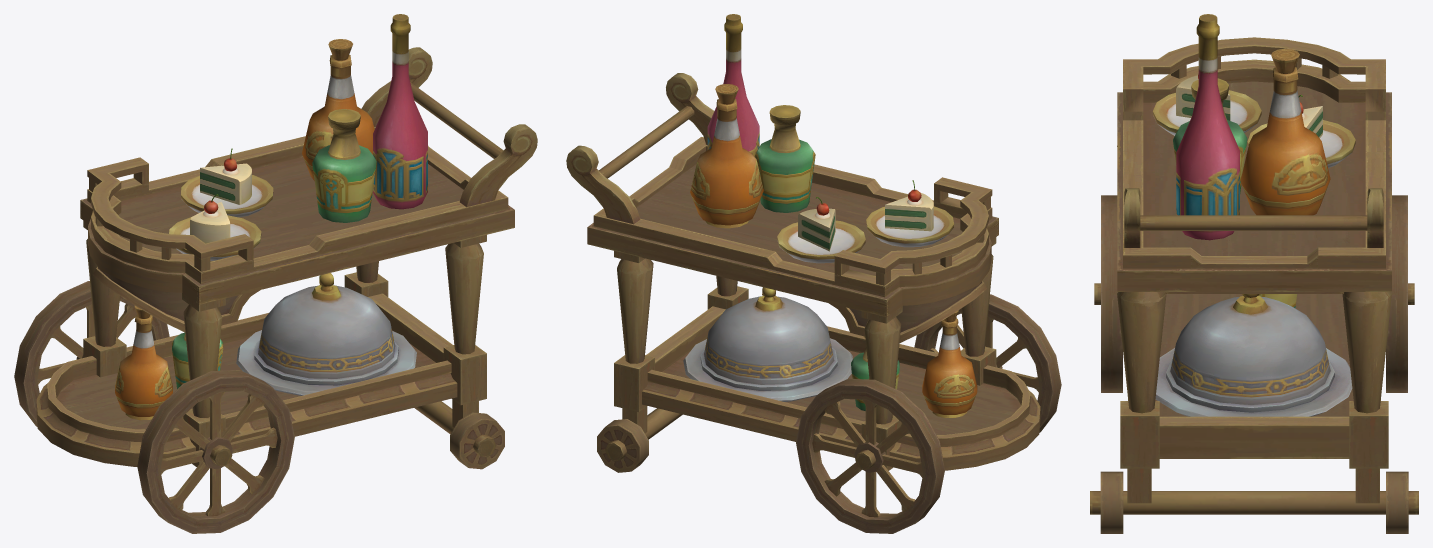
Rendered from Homeworld_Interior_Fd_Decoration_Prop_HotelCanche_01_Lod0.fbx.
3 renders of one model, left to right at view 1: azimuth 30°, elevation 25°; view 2: azimuth 150°, elevation 25°; view 3: azimuth 270°, elevation 25°, orthographic. The views are drawn at different scales.
Parts seen in each view (by area): view 1: Homeworld_Interior_Fd_Decoration_Prop_HotelCanche_01_Lod0; view 2: Homeworld_Interior_Fd_Decoration_Prop_HotelCanche_01_Lod0; view 3: Homeworld_Interior_Fd_Decoration_Prop_HotelCanche_01_Lod0.
Part boxes in pixels (x1,y1,x2,y2): Homeworld_Interior_Fd_Decoration_Prop_HotelCanche_01_Lod0: (14, 14, 537, 533); Homeworld_Interior_Fd_Decoration_Prop_HotelCanche_01_Lod0: (566, 14, 1061, 533); Homeworld_Interior_Fd_Decoration_Prop_HotelCanche_01_Lod0: (1090, 14, 1418, 533).
Size of the model in its own units: 1.61 by 1.52 by 0.9199.
1 material, 1 textured.
